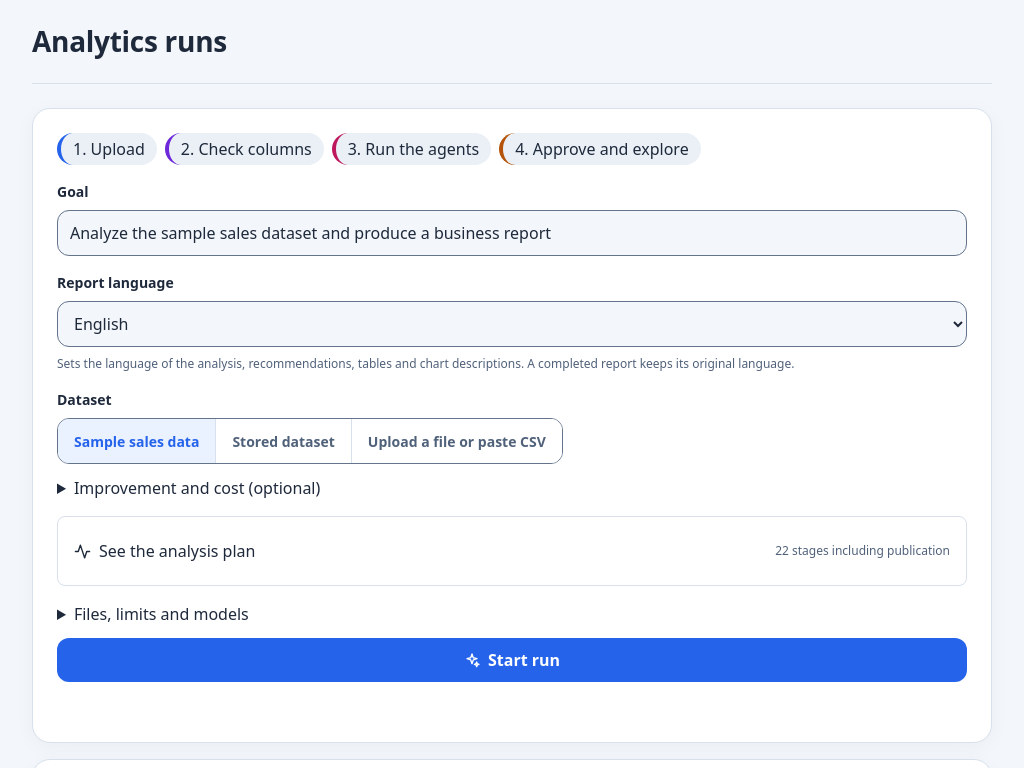
Test case: recoverable analysis navigation › distinguishes a failed dataset read from an empty list in en
Step 1. Click the button "Stored dataset" → click(283, 441), box [215,419,351,463]
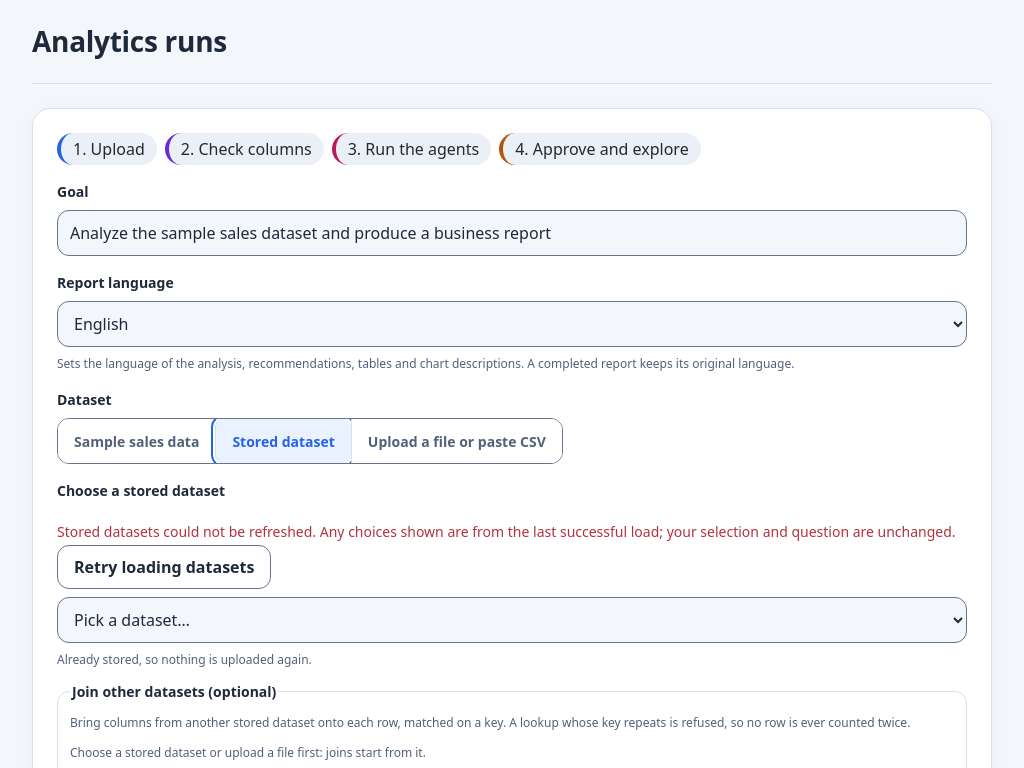
Expected: the text "Stored datasets could not be refreshed" is shown, [57,522,956,541]
Step 2. Click the button "Retry loading datasets" → click(164, 567), box [57,545,272,589]
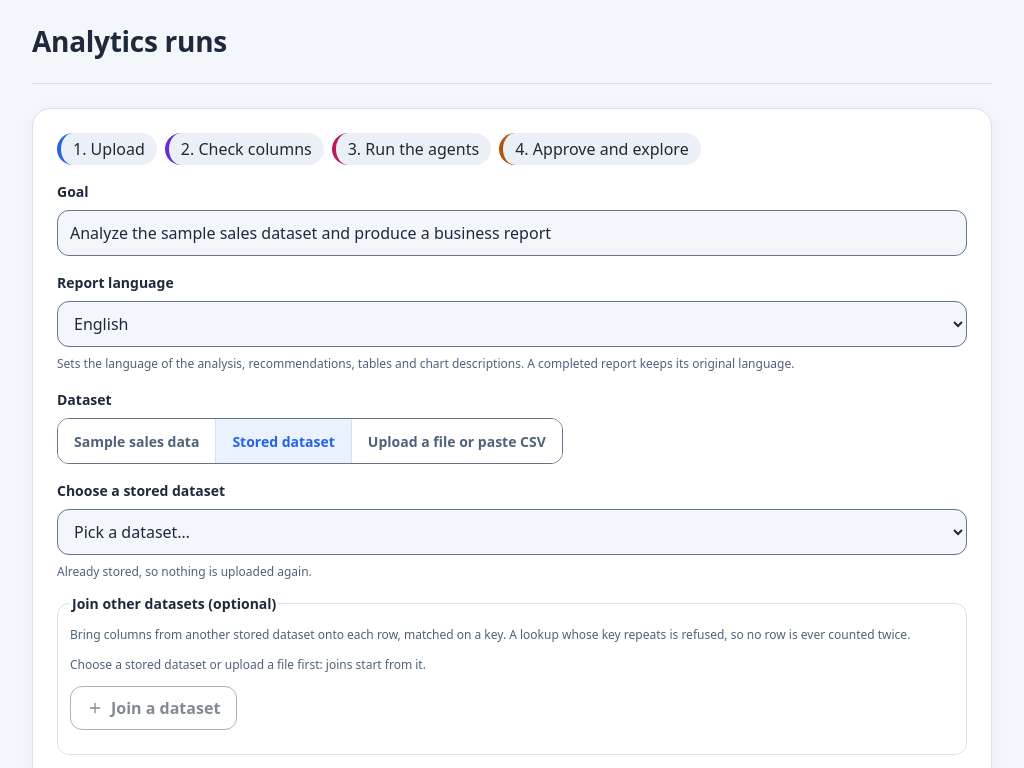
Expected: the text "Stored datasets could not be refreshed" is gone
